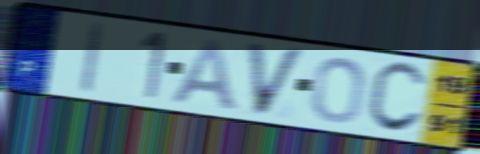1: (138, 30, 168, 103)
A: (168, 36, 241, 114)
C: (364, 60, 429, 136)
I: (77, 20, 106, 96)
O: (310, 55, 369, 125)
V: (245, 40, 308, 119)
